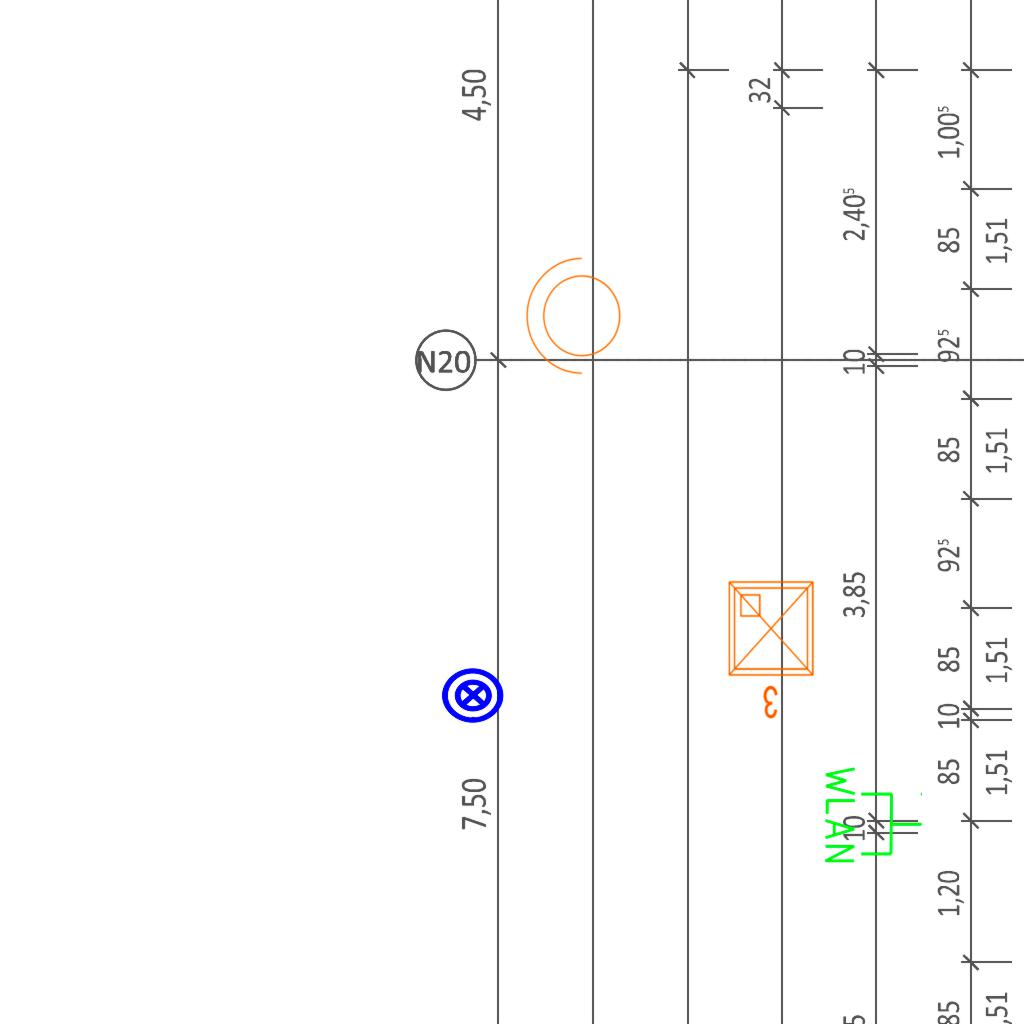Einbaudownlights_LED_Konferenzraeume: (721, 574, 825, 724)
Scheinwerfer_fuer_Alarmbeleuchtung: (521, 253, 633, 385)
Taster_beleuchtet: (440, 662, 506, 728)
WLAN: (821, 762, 925, 867)
